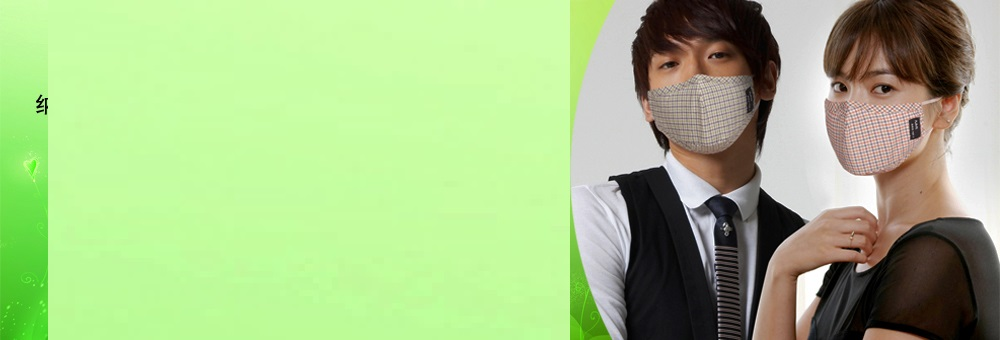face_mask: (826, 40, 928, 177), (651, 36, 758, 154)
